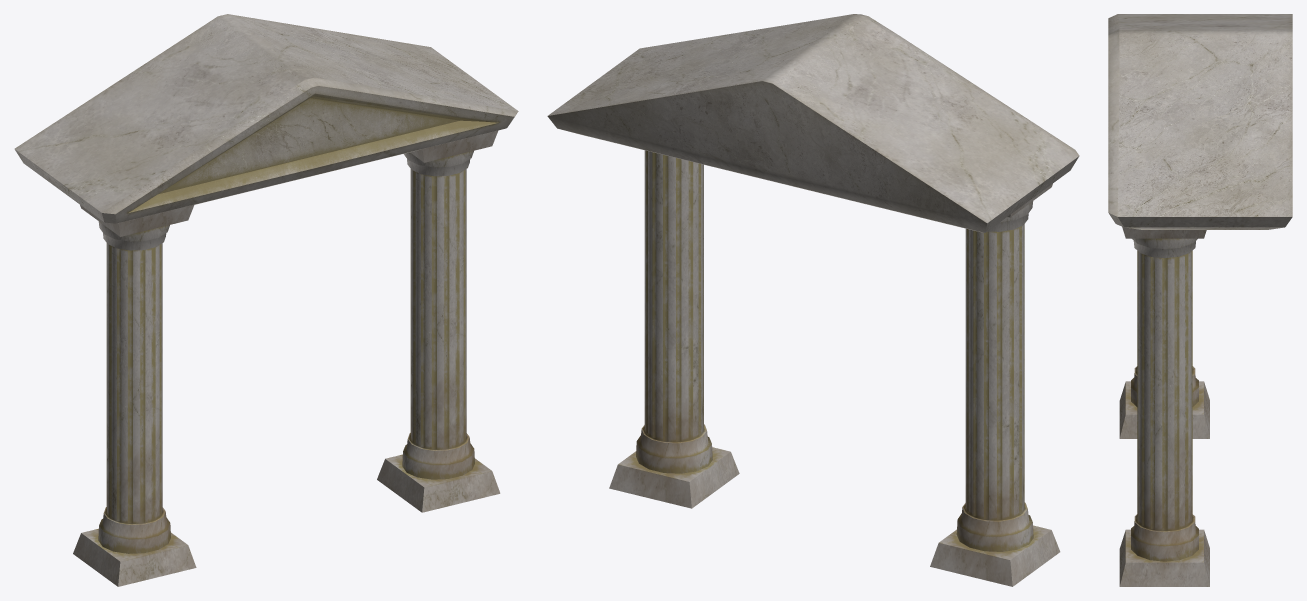
File: Archway.fbx
The picture shows the model from 3 angles, left to right: view 1: azimuth 30°, elevation 25°; view 2: azimuth 150°, elevation 25°; view 3: azimuth 270°, elevation 25°; orthographic projection. The views are drawn at different scales.
Parts seen in each view (by area): view 1: Topper, pillar_skiny2, pillar_skiny3; view 2: Topper, pillar_skiny2, pillar_skiny3; view 3: Topper, pillar_skiny3, pillar_skiny2.
Boxes of the visible parts, x1,y1,x2,y2 form: Topper: (14, 14, 518, 223); pillar_skiny2: (73, 205, 196, 586); pillar_skiny3: (377, 130, 500, 512); Topper: (547, 14, 1079, 232); pillar_skiny2: (930, 183, 1060, 586); pillar_skiny3: (609, 150, 739, 508); Topper: (1108, 14, 1292, 229); pillar_skiny3: (1119, 226, 1209, 586); pillar_skiny2: (1119, 366, 1209, 438).
Bounding box in the file's own units: 318 × 336 × 122.
